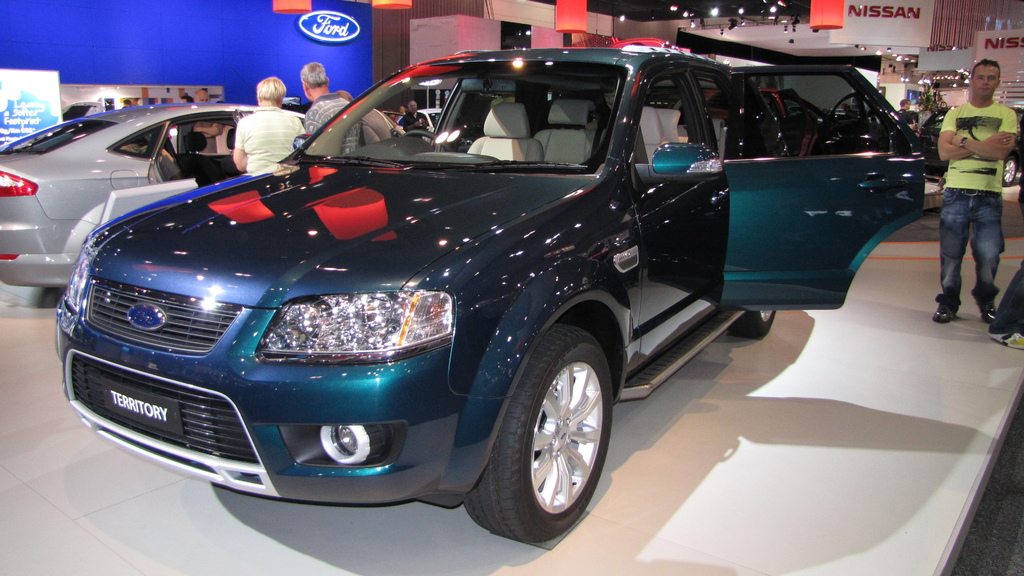Car: (58, 45, 917, 545), (0, 100, 307, 289)
